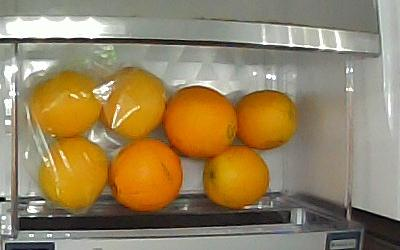orange: (106, 139, 184, 210), (163, 85, 237, 158), (202, 147, 270, 209), (231, 90, 298, 148)
orange_vinyl: (39, 137, 110, 213), (96, 67, 168, 139), (29, 68, 101, 137)
